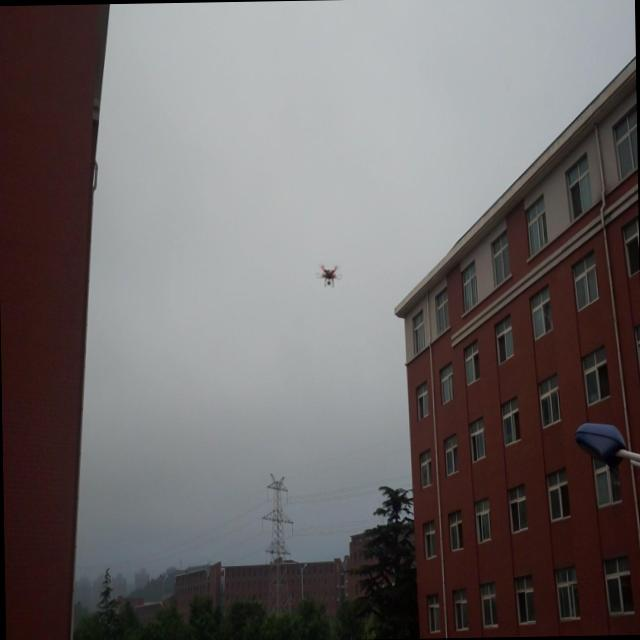drone: (313, 262, 343, 290)
